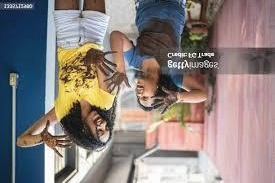earth: (137, 24, 175, 48), (60, 62, 80, 88)
